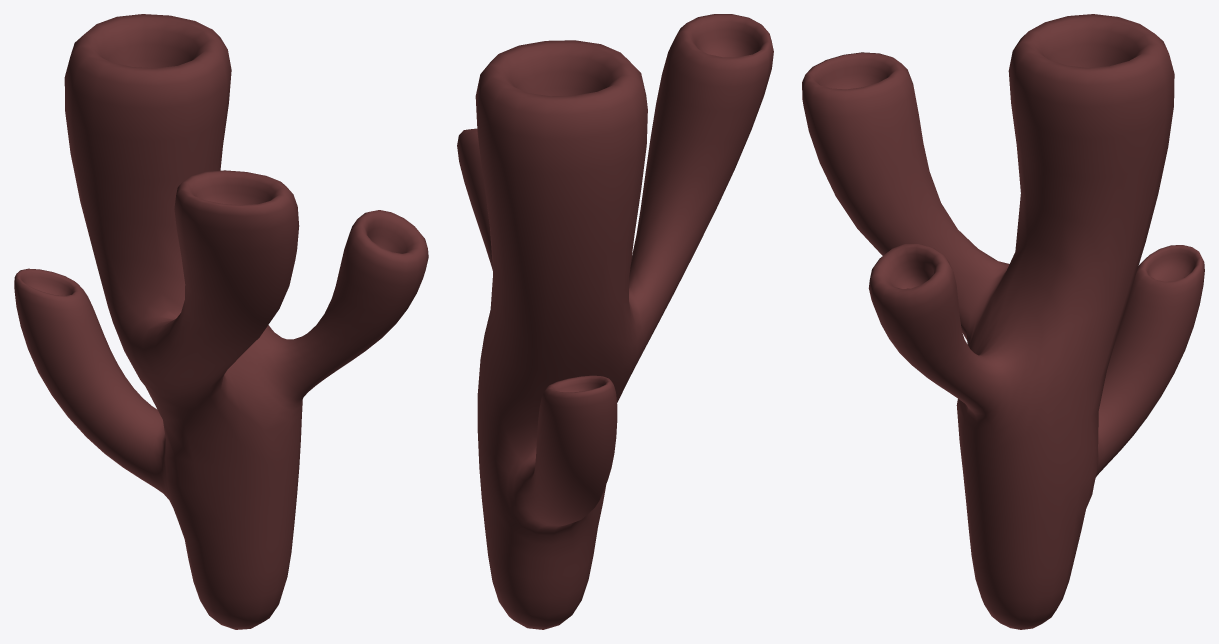
File: coral11.fbx
3 renders of one model, left to right at view 1: azimuth 30°, elevation 25°; view 2: azimuth 150°, elevation 25°; view 3: azimuth 270°, elevation 25°, orthographic. The views are drawn at different scales.
Parts seen in each view (by area): view 1: soft coral 002; view 2: soft coral 002; view 3: soft coral 002.
Boxes of the visible parts, bbox=[...] form: soft coral 002: bbox=[14, 14, 428, 629]; soft coral 002: bbox=[457, 14, 773, 629]; soft coral 002: bbox=[802, 14, 1204, 629].
Size of the model in its own units: 629 by 1256 by 824.
